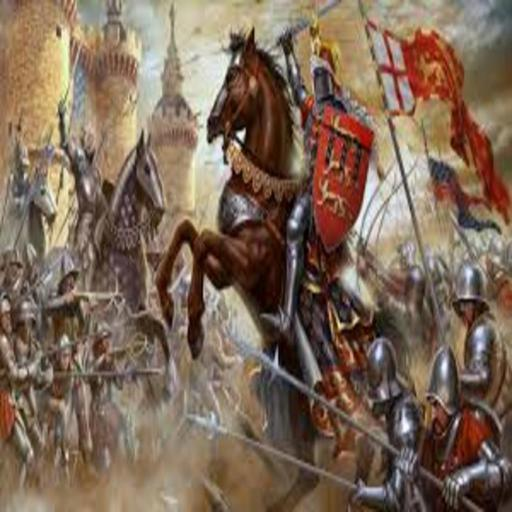horse: (152, 24, 418, 509), (85, 128, 181, 402), (14, 162, 60, 274)
